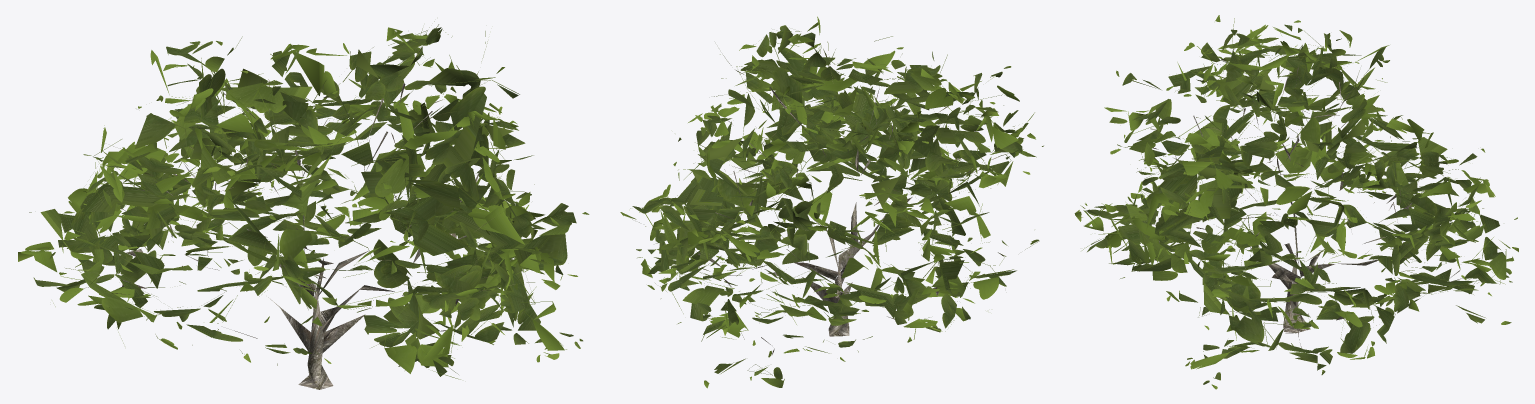
The model's file is tree_orchid_lod2.glb.
The picture shows the model from 3 angles, left to right: view 1: azimuth 30°, elevation 25°; view 2: azimuth 150°, elevation 25°; view 3: azimuth 270°, elevation 25°; orthographic projection. The views are drawn at different scales.
Visible parts, largest first — view 1: Bauhinia_blakeana_HD; view 2: Bauhinia_blakeana_HD; view 3: Bauhinia_blakeana_HD.
Boxes of the visible parts, x1,y1,x2,y2 form: Bauhinia_blakeana_HD: (18, 21, 589, 389); Bauhinia_blakeana_HD: (620, 16, 1043, 388); Bauhinia_blakeana_HD: (1074, 15, 1518, 389).
Bounding box in the file's own units: 6.97 × 5.05 × 7.26.
7 materials, 7 textured.
